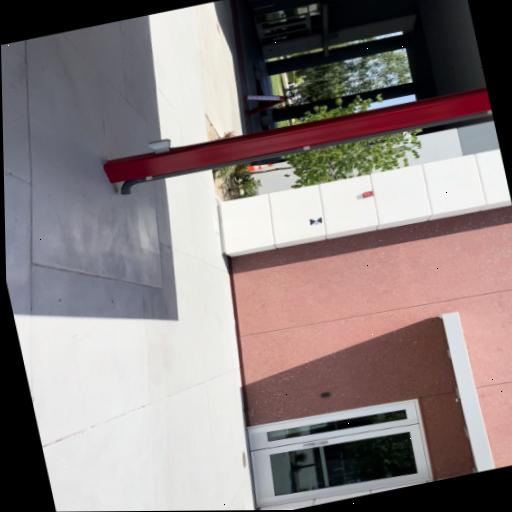target6: (310, 217, 323, 226)
